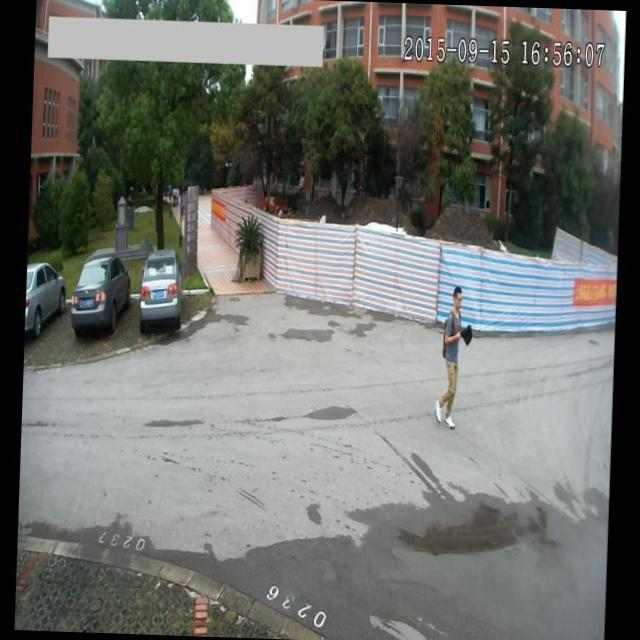person: (434, 282, 474, 428)
